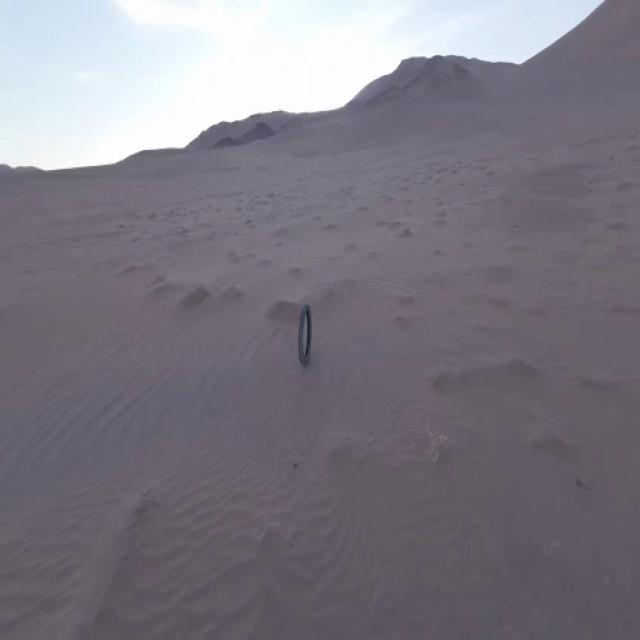Tire: (298, 305, 312, 364)
